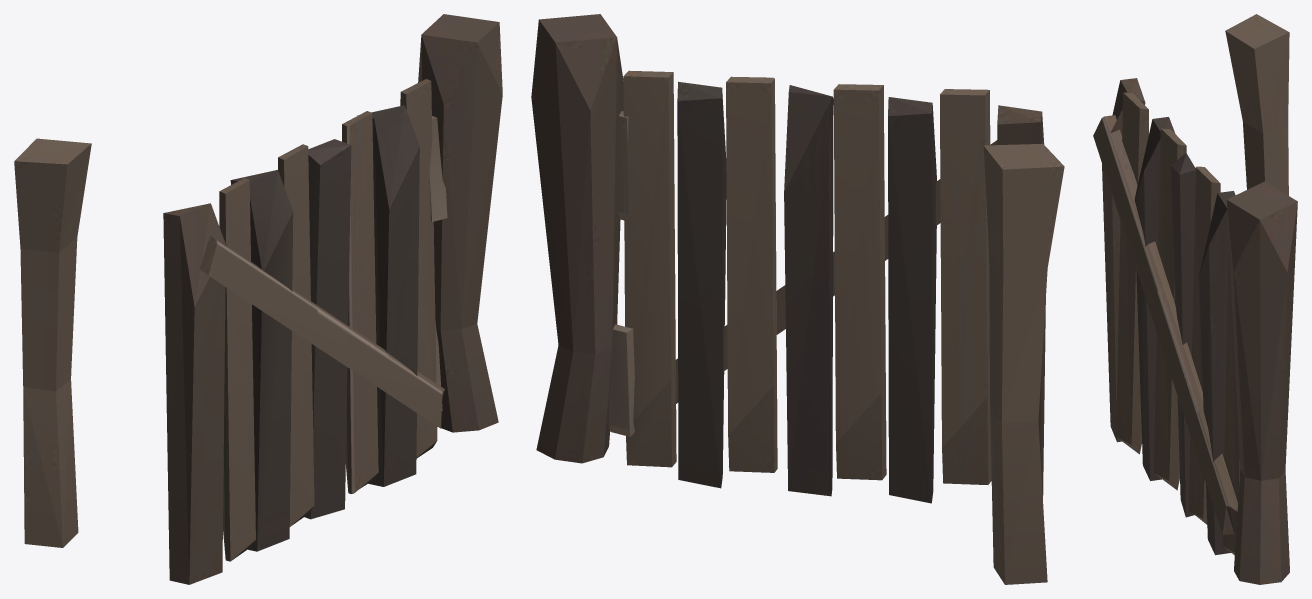
The model's file is gate_plank.glb.
The picture shows the model from 3 angles, left to right: view 1: azimuth 30°, elevation 25°; view 2: azimuth 150°, elevation 25°; view 3: azimuth 270°, elevation 25°; orthographic projection. The views are drawn at different scales.
Parts seen in each view (by area): view 1: gate_plank; view 2: gate_plank; view 3: gate_plank.
Part boxes in pixels (x1=…): gate_plank: x1=14, y1=14, x2=502, y2=584; gate_plank: x1=531, y1=14, x2=1064, y2=584; gate_plank: x1=1093, y1=14, x2=1297, y2=584.
Bounding box in the file's own units: 1.35 × 1.1 × 0.5227.
Materials: 1 (1 with a texture image).
